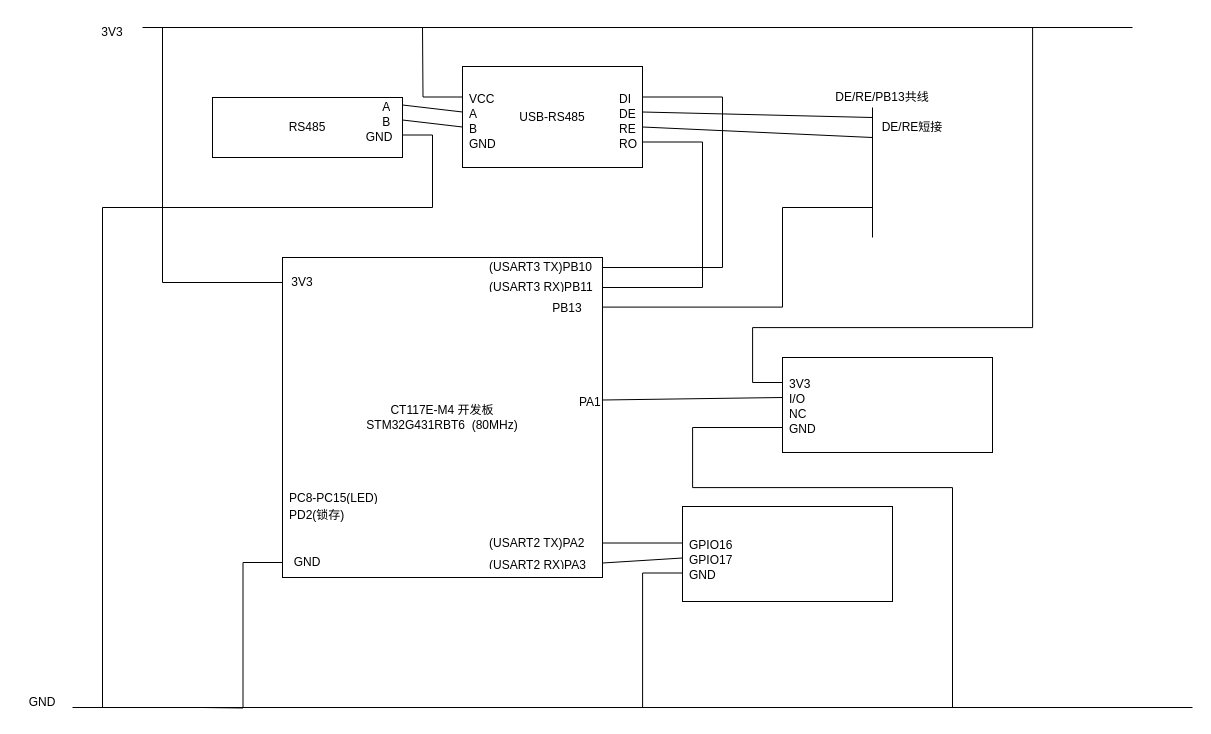
Image size: 1211x734. Some labels were removed from this diagram. The shapes that lost their labels are listed below. From the top down, each one's box as (x1, y1, x2, y2) in pixels, then its label:
(782, 356, 992, 452): 温湿度传感器
(682, 506, 892, 602): ESP32
